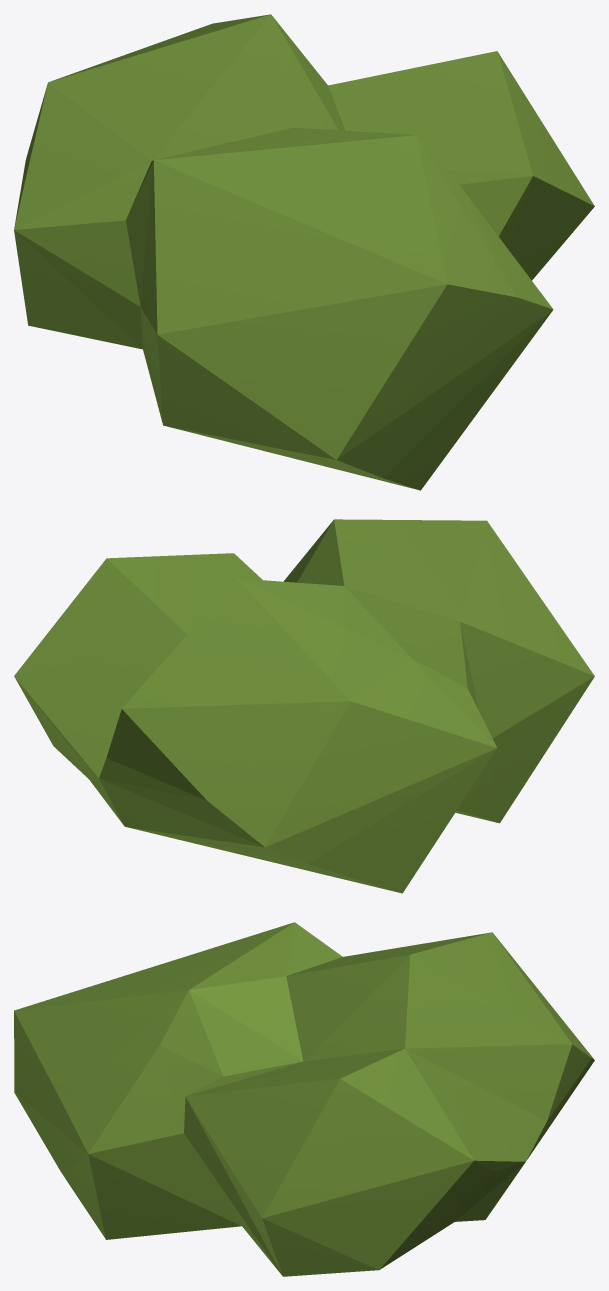
Rendered from Bush_B.glb.
3 renders of one model, top to bottom at view 1: azimuth 30°, elevation 25°; view 2: azimuth 150°, elevation 25°; view 3: azimuth 270°, elevation 25°, orthographic. The views are drawn at different scales.
Visible parts, largest first — view 1: Bush_B_LOD0; view 2: Bush_B_LOD0; view 3: Bush_B_LOD0.
Part boxes in pixels (left/top/right/bottom): Bush_B_LOD0: left=14, top=14, right=594, bottom=490; Bush_B_LOD0: left=14, top=519, right=594, bottom=893; Bush_B_LOD0: left=14, top=922, right=594, bottom=1276.
Size of what is drawn, in the model's own units: 1.2 by 0.7606 by 1.35.
